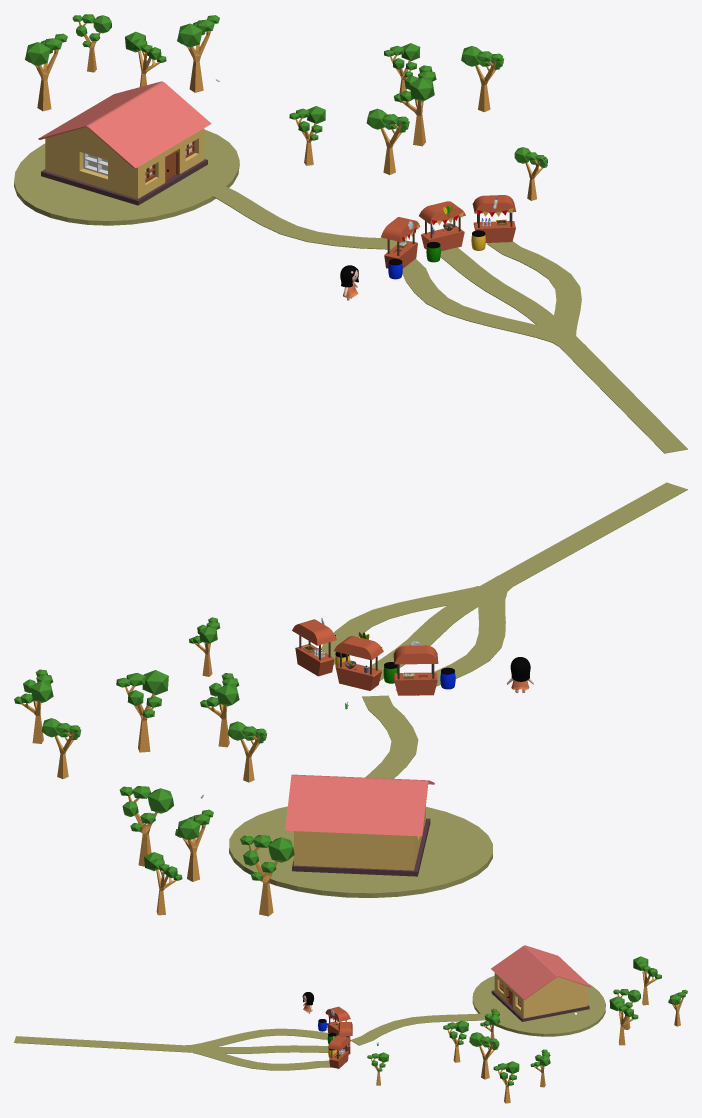
File: stand lv 3.fbx
The picture shows the model from 3 angles, top to bottom: view 1: azimuth 30°, elevation 25°; view 2: azimuth 150°, elevation 25°; view 3: azimuth 270°, elevation 25°; orthographic projection. The views are drawn at different scales.
Parts seen in each view (by area): view 1: Circle, roof, Plane.015, wall, Plane.014, Plane.018, Plane.017, Icosphere.034, Icosphere.035, Icosphere.036, Cube.012, Icosphere.031 (+8 smaller); view 2: Circle, roof, Plane.015, wall, Plane.014, Plane.018, Plane.017, Icosphere.035, Icosphere.034, Icosphere.036, Icosphere.032, Icosphere.031 (+12 smaller); view 3: Circle, roof, Plane.015, wall, Plane.018, Plane.014, Plane.017, Icosphere.034, Icosphere.036, Icosphere.035, Icosphere.032, Icosphere.031 (+6 smaller).
Boxes of the visible parts, x1,y1,x2,y2 form: Circle: [14, 129, 239, 225]; roof: [38, 81, 211, 168]; Plane.015: [440, 247, 687, 453]; wall: [45, 127, 204, 198]; Plane.014: [402, 259, 586, 348]; Plane.018: [212, 186, 417, 249]; Plane.017: [487, 241, 581, 335]; Icosphere.034: [394, 65, 436, 146]; Icosphere.035: [25, 33, 67, 111]; Icosphere.036: [177, 15, 219, 92]; Cube.012: [41, 159, 207, 205]; Icosphere.031: [366, 108, 409, 174]; Circle: [229, 806, 492, 897]; roof: [285, 774, 434, 836]; Plane.015: [369, 482, 687, 680]; wall: [294, 806, 425, 870]; Plane.014: [396, 575, 512, 695]; Plane.018: [362, 695, 418, 778]; Plane.017: [321, 586, 478, 664]; Icosphere.035: [240, 835, 294, 916]; Icosphere.034: [116, 670, 168, 752]; Icosphere.036: [119, 786, 173, 866]; Icosphere.032: [14, 669, 53, 743]; Icosphere.031: [200, 673, 239, 747]; Circle: [472, 975, 605, 1036]; roof: [491, 945, 591, 999]; Plane.015: [14, 1036, 337, 1053]; wall: [494, 973, 587, 1018]; Plane.018: [351, 1013, 485, 1045]; Plane.014: [175, 1028, 328, 1051]; Plane.017: [193, 1052, 331, 1070]; Icosphere.034: [469, 1032, 499, 1079]; Icosphere.036: [609, 996, 638, 1045]; Icosphere.035: [633, 956, 661, 1005]; Icosphere.032: [493, 1061, 519, 1103]; Icosphere.031: [443, 1020, 468, 1062].
Size of the model in its own units: 4158 by 652 by 8597.
